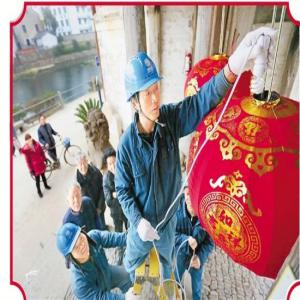blue: (124, 52, 162, 126), (59, 220, 91, 269)
none: (66, 179, 84, 213), (75, 151, 89, 177), (106, 149, 117, 177), (26, 132, 33, 146), (40, 115, 46, 126)
